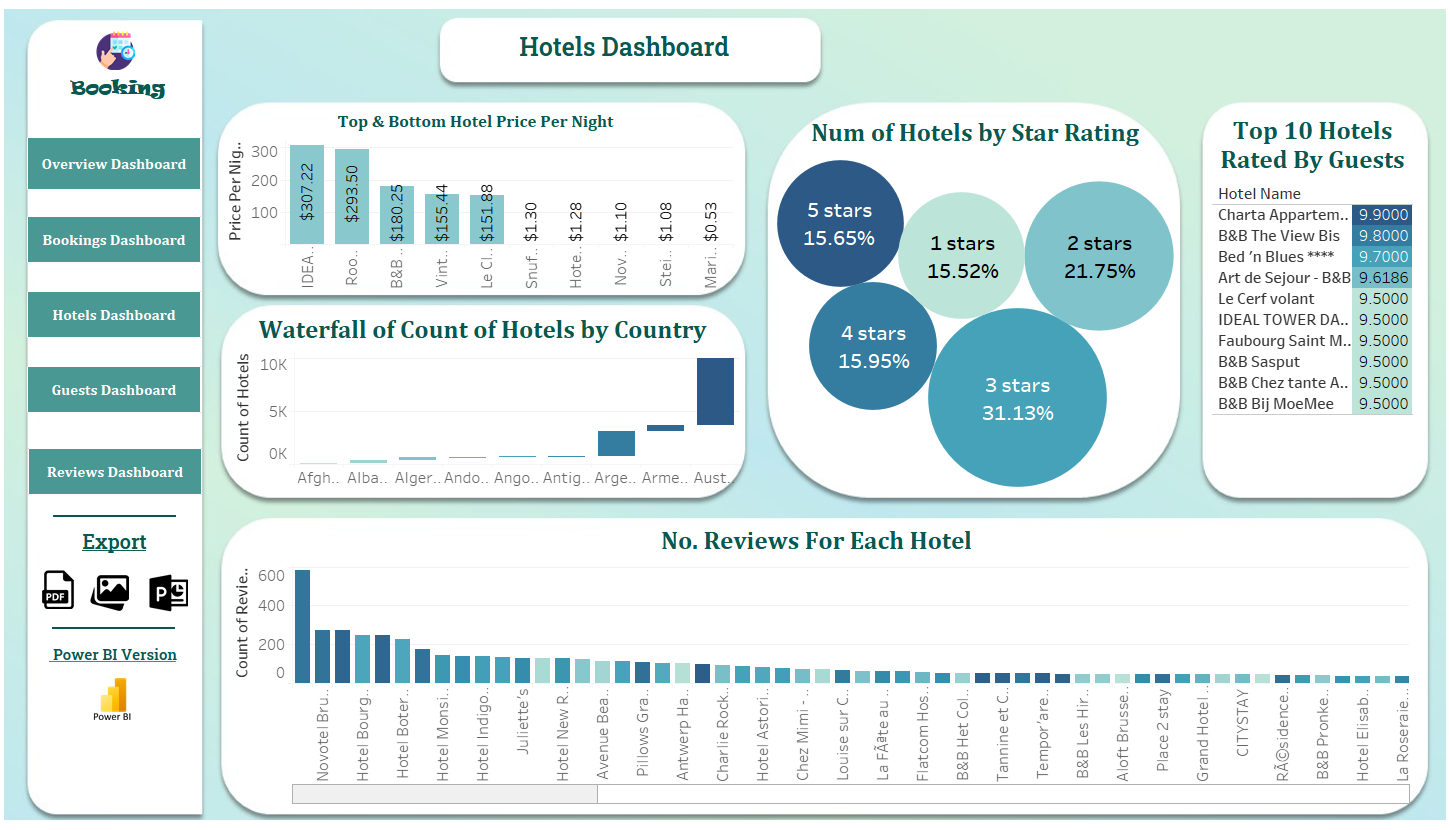

The dashboard page shown, as its layout file describes it:
{"tool":"tableau","page":{"name":"Hotel Dashboard","canvas":[1450,830],"ordinal":2},"visuals":[{"type":"image","param":"Image/Hotel.jpg","box":[0,0,1450,830]},{"type":"text","box":[516,29,239,35]},{"type":"image","param":"Image/choose.png","box":[96,31,47,39]},{"type":"text","box":[67,73,100,29]},{"type":"worksheet","title":"Top & Bottom Hotel Price Per Night","mark":"Automatic","rows":["Calculation_673288202736930823"],"box":[217,105,517,185]},{"type":"worksheet","title":"Top 10 Hotels Rated By Guests","mark":"Square","rows":["hotel_name"],"box":[1212,109,205,367]},{"type":"worksheet","title":"Num of Hotels by Star Rating","mark":"Circle","box":[776,111,398,380]},{"type":"dashboard-object","box":[27,137,174,53]},{"type":"dashboard-object","box":[27,216,174,47]},{"type":"dashboard-object","box":[27,291,174,47]},{"type":"worksheet","title":"Waterfall of Count of Hotels by Country","mark":"GanttBar","rows":["Calculation_868913312278827010"],"cols":["Country (Dim_Hotel)"],"box":[225,308,515,196]},{"type":"dashboard-object","box":[27,366,174,47]},{"type":"dashboard-object","box":[28,448,174,47]},{"type":"blank","box":[53,515,123,2]},{"type":"worksheet","title":"No. Reviews For Each Hotel","mark":"Automatic","rows":["Review_id_SK"],"cols":["hotel_name"],"box":[224,519,1185,285]},{"type":"text","box":[79,525,78,34]},{"type":"dashboard-object","box":[72,573,76,39]},{"type":"dashboard-object","box":[123,573,91,39]},{"type":"blank","box":[52,627,123,2]},{"type":"text","box":[46,642,144,25]},{"type":"image","param":"Image/Microsoft-Power-BI-Symbol.png","box":[74,677,77,61]}]}

Visuals, with their boxes in screenshot pixels (x1, y1, x2, y2), scaled from the page's 1450x830 canvas onto the 1450x830 screenshot:
image: 0,0,1449,829
text: 516,29,755,64
image: 96,31,143,70
text: 67,73,167,102
"Top & Bottom Hotel Price Per Night" worksheet: 217,105,734,290
"Top 10 Hotels Rated By Guests" worksheet (Square marks): 1212,109,1417,476
"Num of Hotels by Star Rating" worksheet (Circle marks): 776,111,1174,491
dashboard-object: 27,137,201,190
dashboard-object: 27,216,201,263
dashboard-object: 27,291,201,338
"Waterfall of Count of Hotels by Country" worksheet (GanttBar marks): 225,308,740,504
dashboard-object: 27,366,201,413
dashboard-object: 28,448,202,495
blank: 53,515,176,517
"No. Reviews For Each Hotel" worksheet: 224,519,1409,804
text: 79,525,157,559
dashboard-object: 72,573,148,612
dashboard-object: 123,573,214,612
blank: 52,627,175,629
text: 46,642,190,667
image: 74,677,151,738
